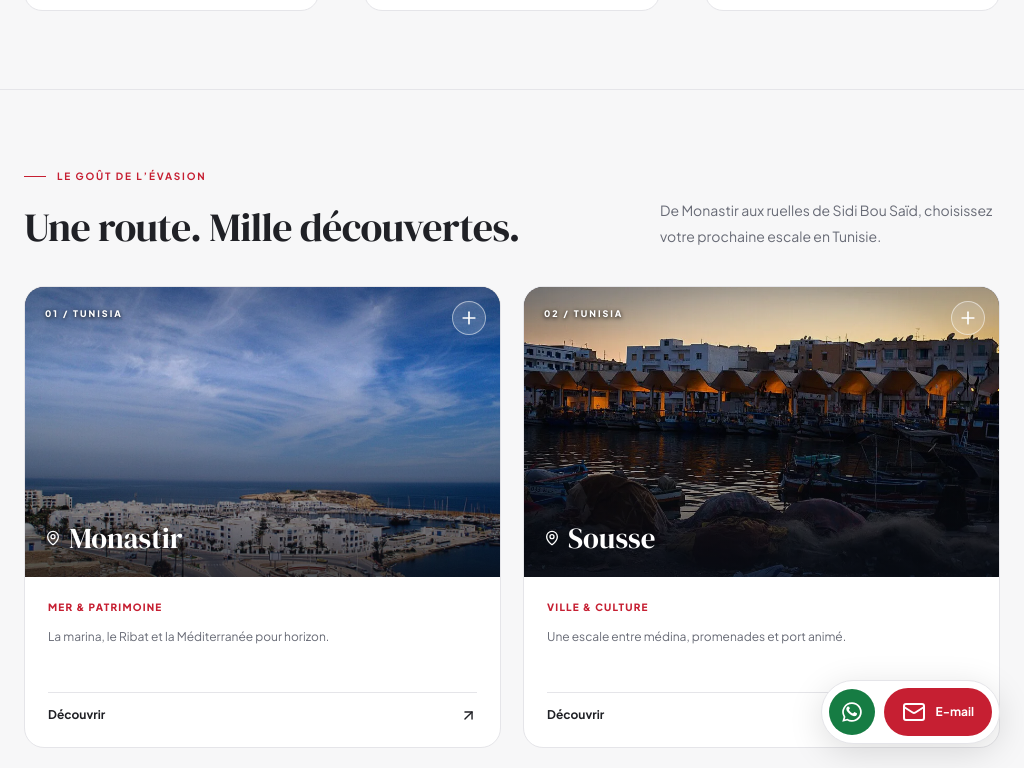
Test: Multilingual rental experience › opens photos inside the site without redirecting to Facebook media
(page scrolled)
Click the button with aria-label "Découvrir Sousse". click: (762, 432)
box: top-left (524, 287), bottom-right (999, 577)
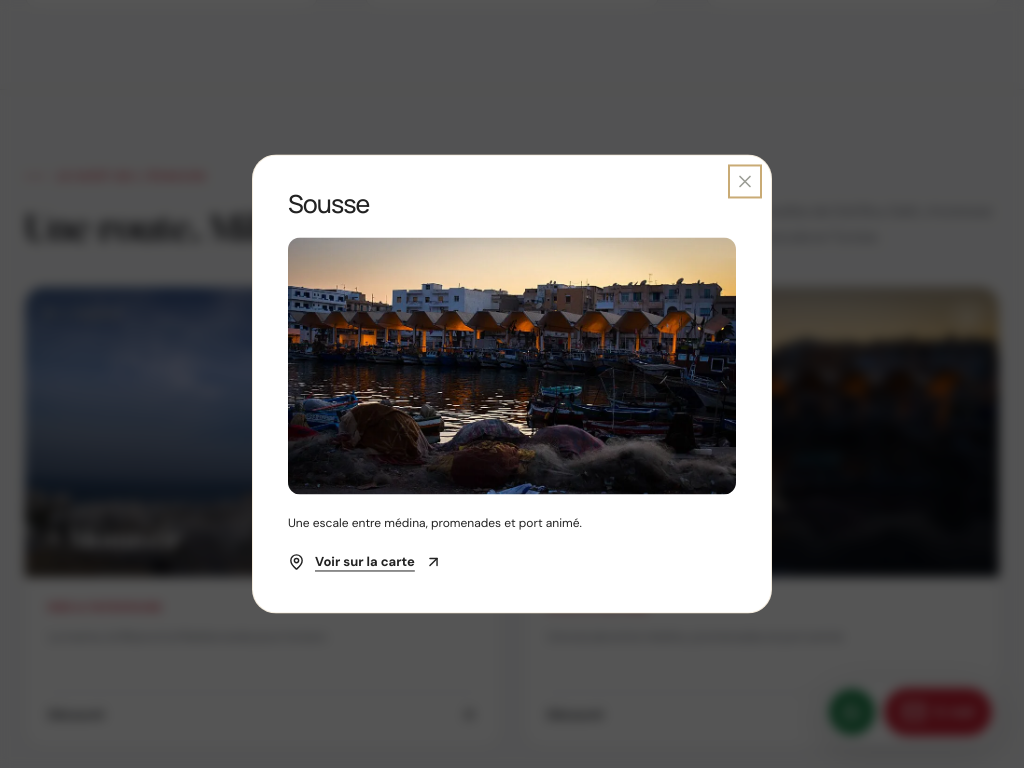
Click the button named "Fermer". click: (745, 182)
box: top-left (735, 172), bottom-right (755, 192)
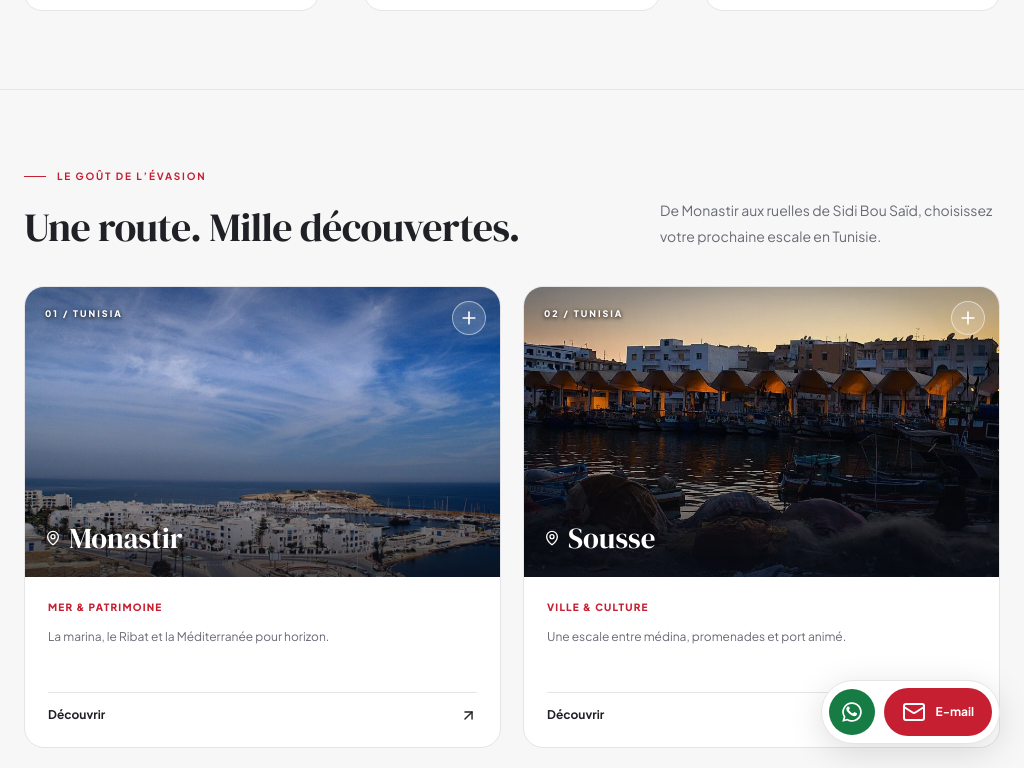
Now the dialog is gone
